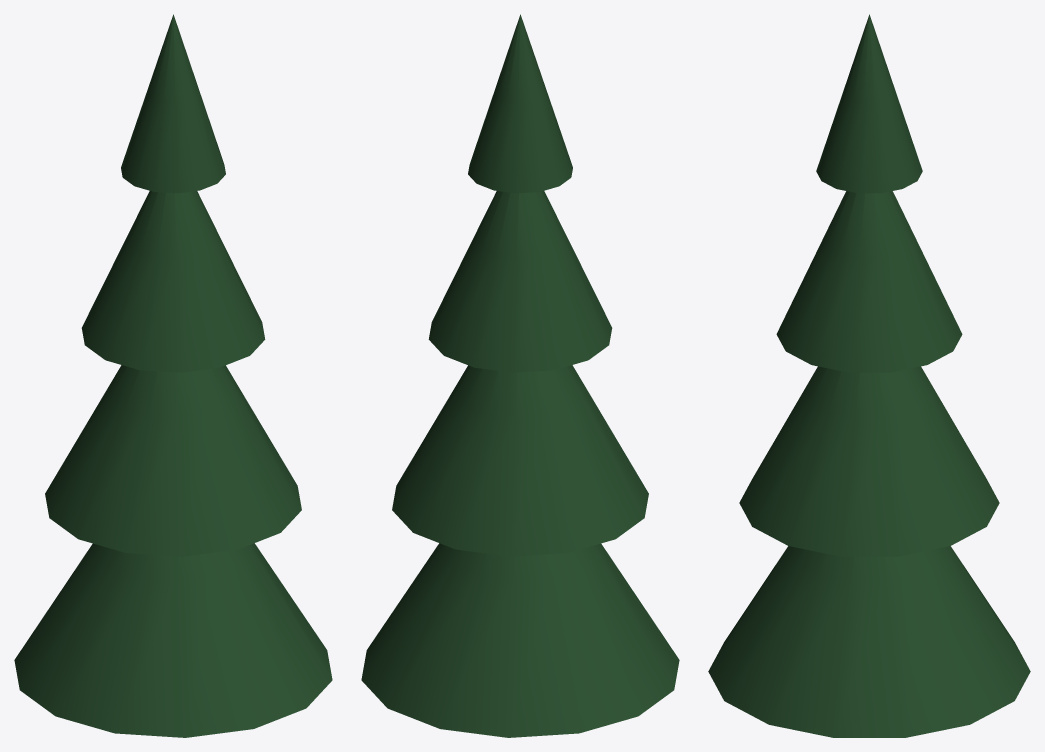
The model's file is conifer.gltf.
3 renders of one model, left to right at view 1: azimuth 30°, elevation 25°; view 2: azimuth 150°, elevation 25°; view 3: azimuth 270°, elevation 25°, orthographic.
Visible parts, largest first — view 1: Tier1, Tier2, Tier3, Tier4; view 2: Tier1, Tier2, Tier3, Tier4; view 3: Tier1, Tier2, Tier3, Tier4.
Boxes of the visible parts, box(x1,y1,x2,y2) form: Tier1: box(14, 543, 332, 737); Tier2: box(45, 365, 301, 556); Tier3: box(81, 191, 265, 372); Tier4: box(121, 14, 225, 193); Tier1: box(361, 543, 679, 737); Tier2: box(392, 365, 648, 556); Tier3: box(428, 191, 612, 372); Tier4: box(468, 14, 572, 193); Tier1: box(708, 546, 1030, 737); Tier2: box(739, 366, 999, 556); Tier3: box(776, 191, 962, 372); Tier4: box(816, 14, 922, 193).
Bounding box in the file's own units: 2.53 × 5.9 × 2.6.
